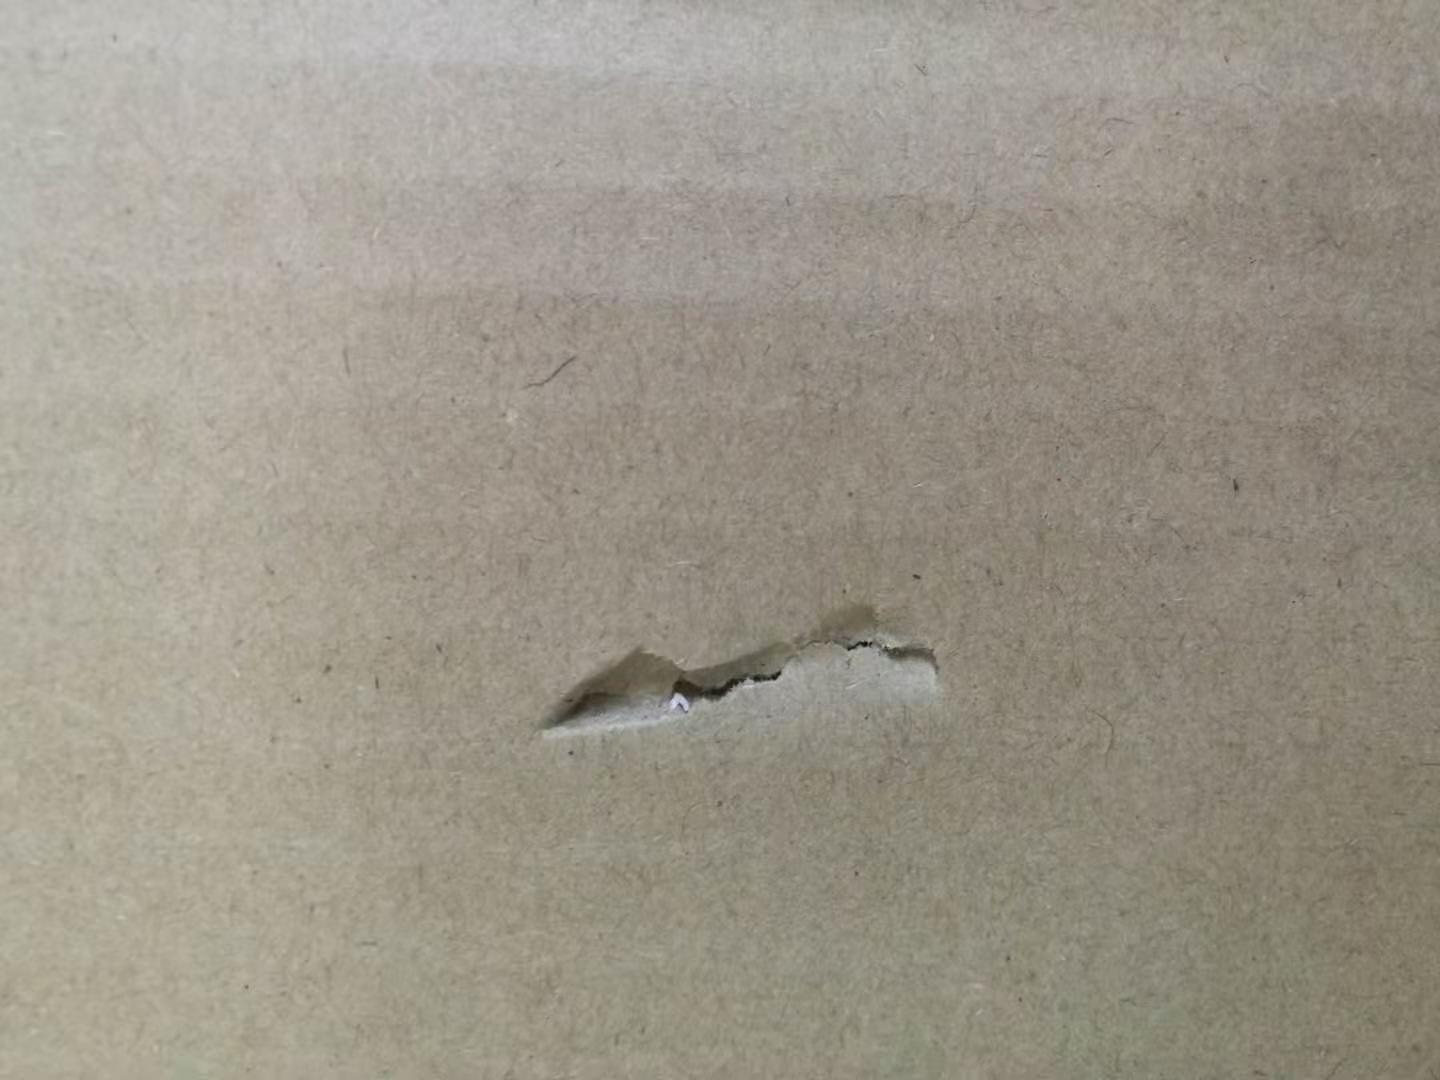defect: (494, 557, 986, 778)
